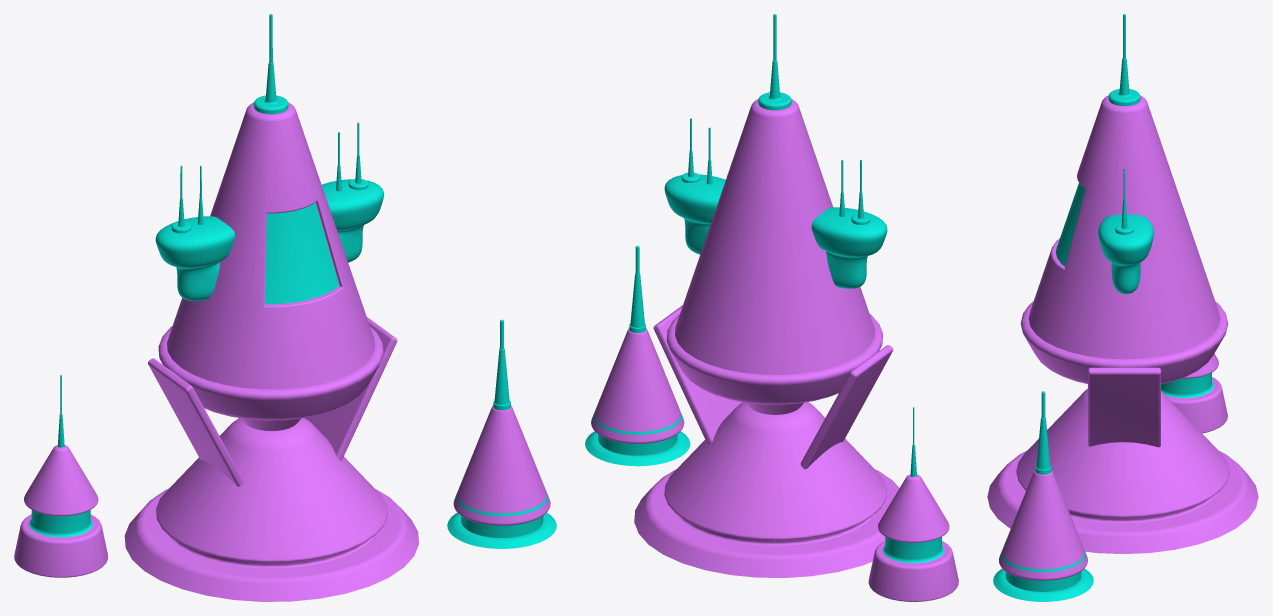
Rendered from Buildings-4.fbx.
3 views of the same model, side by side, from view 1: azimuth 30°, elevation 25°; view 2: azimuth 150°, elevation 25°; view 3: azimuth 270°, elevation 25° (orthographic). The views are drawn at different scales.
Visible parts, largest first — view 1: Buildings-4; view 2: Buildings-4; view 3: Buildings-4.
Part boxes in pixels (bbox=[...]): Buildings-4: bbox=[14, 14, 556, 601]; Buildings-4: bbox=[585, 14, 958, 601]; Buildings-4: bbox=[987, 14, 1258, 601].
Bounding box in the file's own units: 1056 × 1172 × 597.
